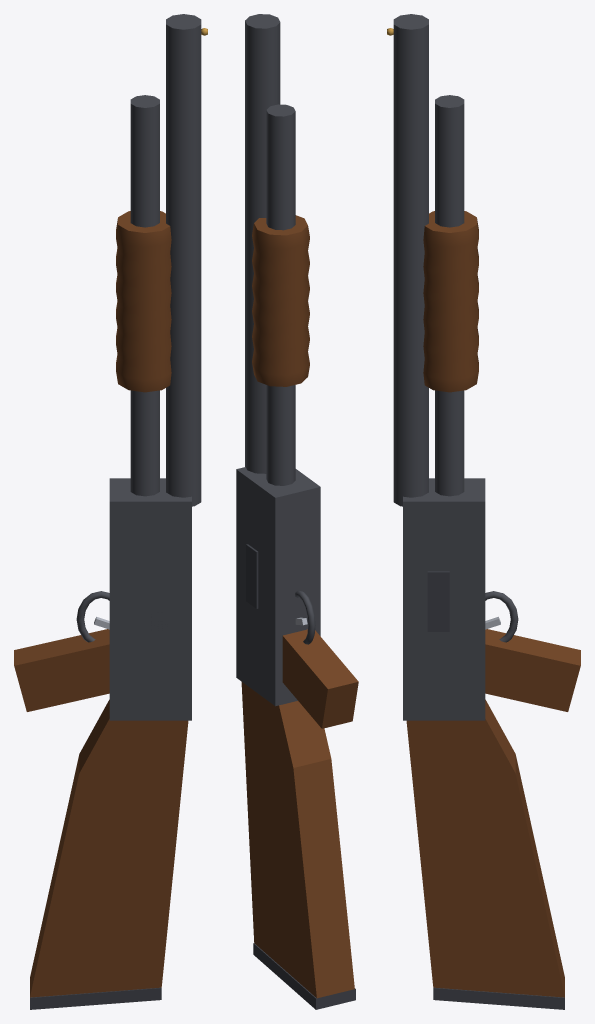
The model's file is pump_shotgun.glb.
The picture shows the model from 3 angles, left to right: view 1: azimuth 90°, elevation 25°; view 2: azimuth 210°, elevation 25°; view 3: azimuth 270°, elevation 25°; orthographic projection. The views are drawn at different scales.
Visible parts, largest first — view 1: PumpShotgun_Wood, PumpShotgun_Gunmetal, PumpShotgun_Darksteel; view 2: PumpShotgun_Wood, PumpShotgun_Gunmetal, PumpShotgun_Darksteel; view 3: PumpShotgun_Wood, PumpShotgun_Gunmetal, PumpShotgun_Darksteel.
Boxes of the visible parts, bbox=[...] form: PumpShotgun_Wood: bbox=[14, 211, 188, 997]; PumpShotgun_Gunmetal: bbox=[76, 14, 201, 720]; PumpShotgun_Darksteel: bbox=[30, 617, 162, 1009]; PumpShotgun_Wood: bbox=[241, 215, 358, 998]; PumpShotgun_Gunmetal: bbox=[236, 14, 320, 706]; PumpShotgun_Darksteel: bbox=[246, 544, 355, 1009]; PumpShotgun_Wood: bbox=[406, 211, 580, 997]; PumpShotgun_Gunmetal: bbox=[393, 14, 518, 720]; PumpShotgun_Darksteel: bbox=[427, 571, 564, 1009].
Size of the model in its own units: 0.056 by 0.982 by 0.1763.
